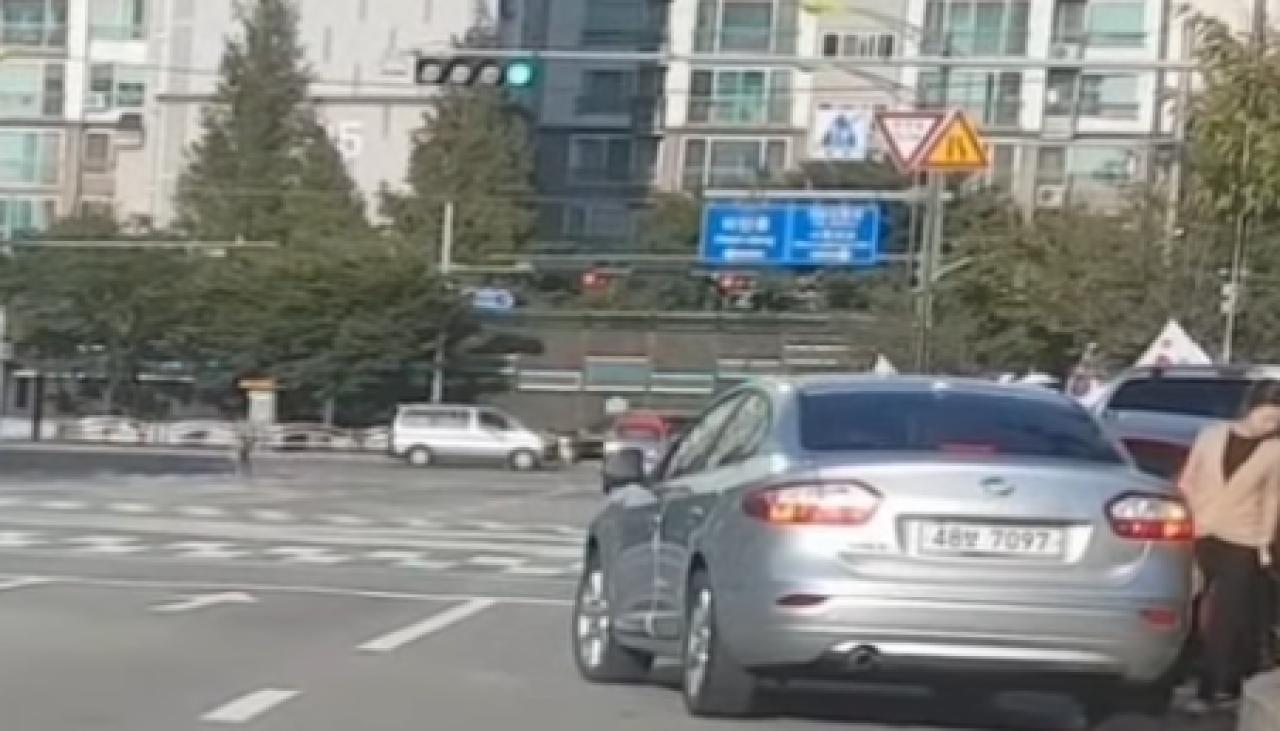Green Light: (504, 59, 532, 87)
